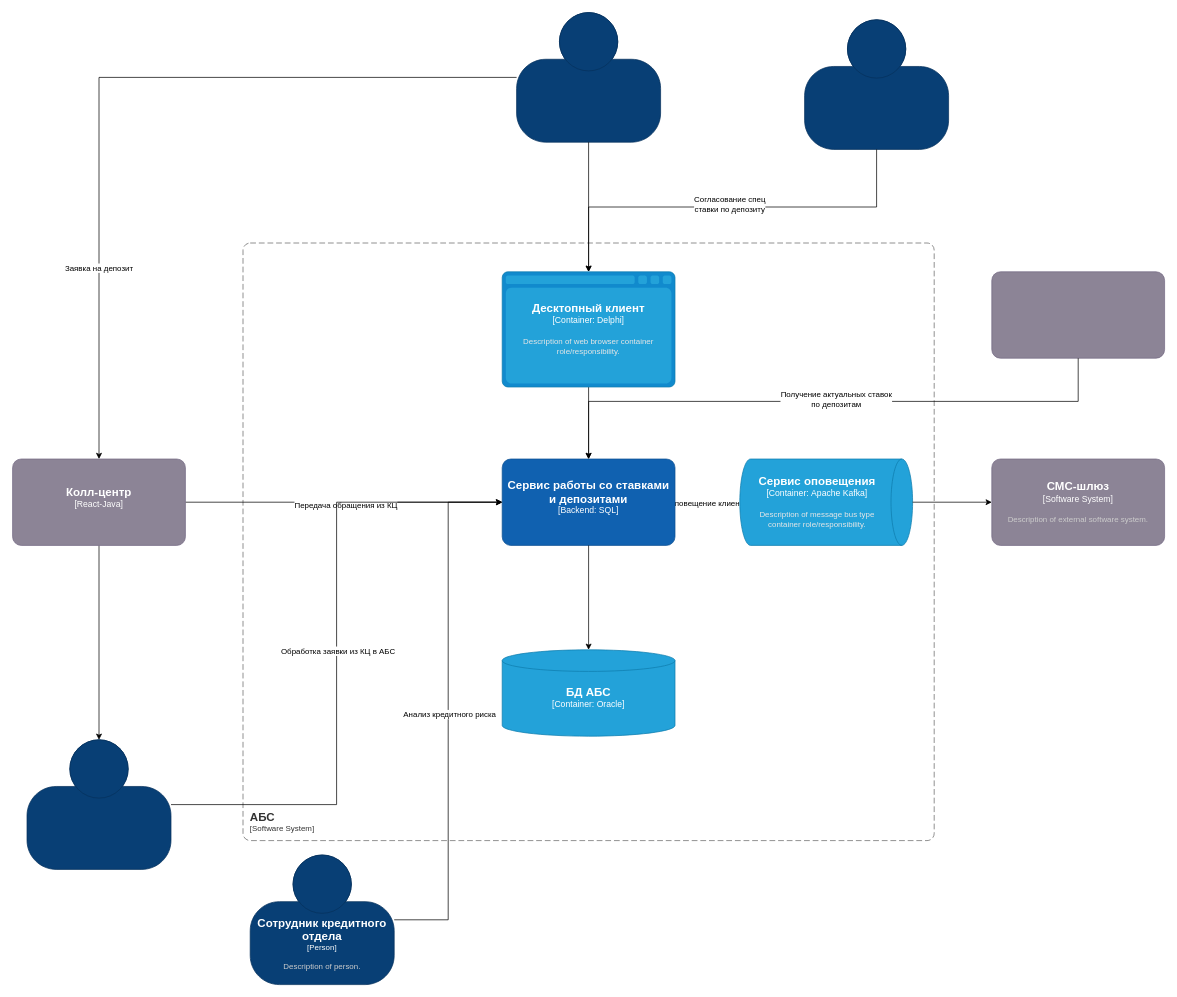
Some shapes in this 1177 by 997 pixel diagram are drawn without their labels. The centre of each missing label's shape, as x and y in pixels:
Интернет-банк [.NET] Description of external software system.: [1078,314]
Оператор колл-центра [Person] Description of person.: [588,77]
Сотрудник бэк-офиса [Person] Description of person.: [98,804]
Сотрудник фронт-офиса [Person] Description of person.: [876,84]
